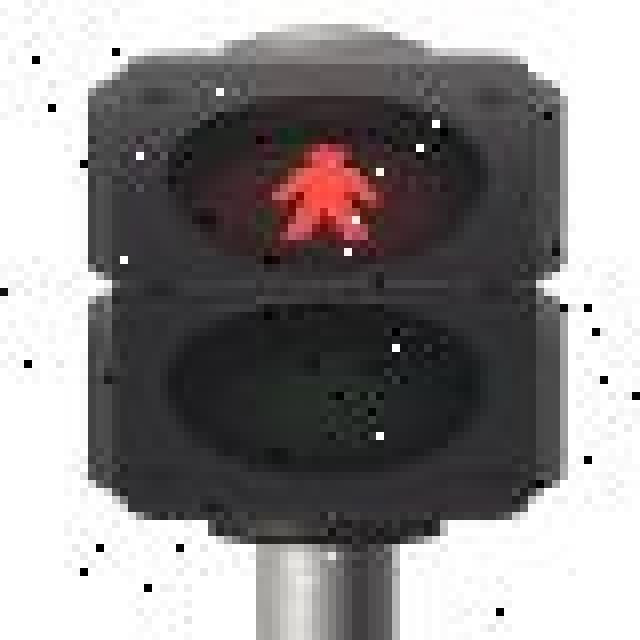redlight: (48, 48, 584, 632)
